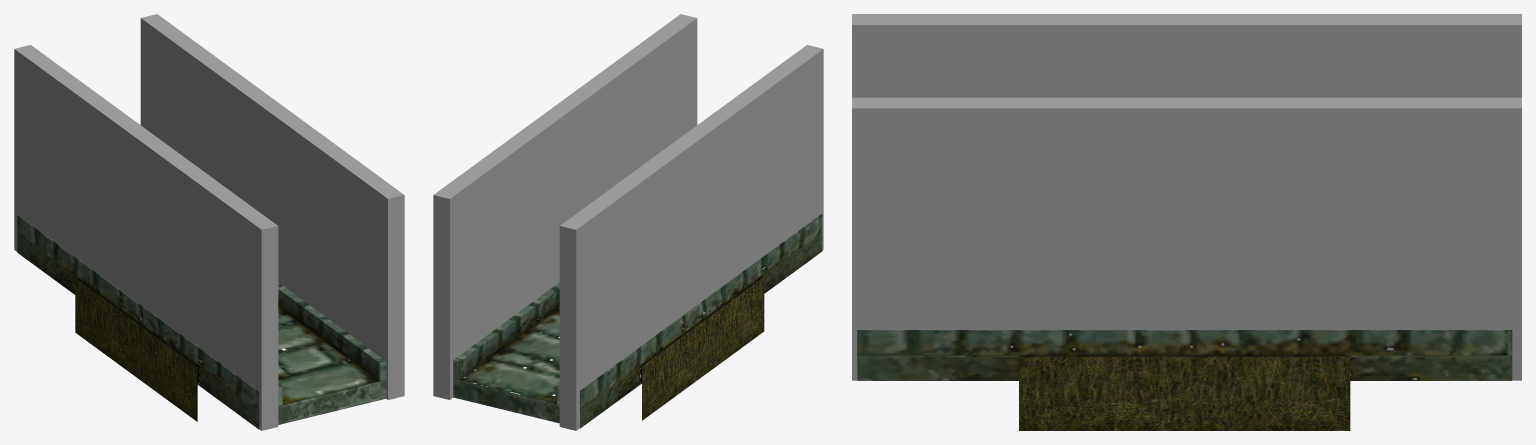
The model's file is sewerBridgeA.fbx.
The picture shows the model from 3 angles, left to right: view 1: azimuth 30°, elevation 25°; view 2: azimuth 150°, elevation 25°; view 3: azimuth 270°, elevation 25°; orthographic projection. The views are drawn at different scales.
Parts seen in each view (by area): view 1: mvcv_obb_sewerBridgeAQ_01, mvcv_obb_sewerBridgeAQ_02, sewerBridgeAQ, sewerBridgeA; view 2: mvcv_obb_sewerBridgeAQ_01, mvcv_obb_sewerBridgeAQ_02, sewerBridgeAQ, sewerBridgeA; view 3: mvcv_obb_sewerBridgeAQ_02, mvcv_obb_sewerBridgeAQ_01, sewerBridgeAQ, sewerBridgeA.
Boxes of the visible parts, box(x1,y1,x2,y2) form: mvcv_obb_sewerBridgeAQ_01: box(14, 45, 278, 430); mvcv_obb_sewerBridgeAQ_02: box(140, 14, 404, 399); sewerBridgeAQ: box(17, 215, 386, 429); sewerBridgeA: box(75, 278, 197, 421); mvcv_obb_sewerBridgeAQ_01: box(559, 45, 823, 430); mvcv_obb_sewerBridgeAQ_02: box(433, 14, 697, 399); sewerBridgeAQ: box(453, 214, 822, 428); sewerBridgeA: box(541, 277, 764, 420); mvcv_obb_sewerBridgeAQ_02: box(852, 97, 1521, 380); mvcv_obb_sewerBridgeAQ_01: box(852, 14, 1521, 97); sewerBridgeAQ: box(857, 330, 1512, 380); sewerBridgeA: box(1019, 356, 1350, 430).
Size of the model in its own units: 154 by 235 by 446.
3 materials, 2 textured.
